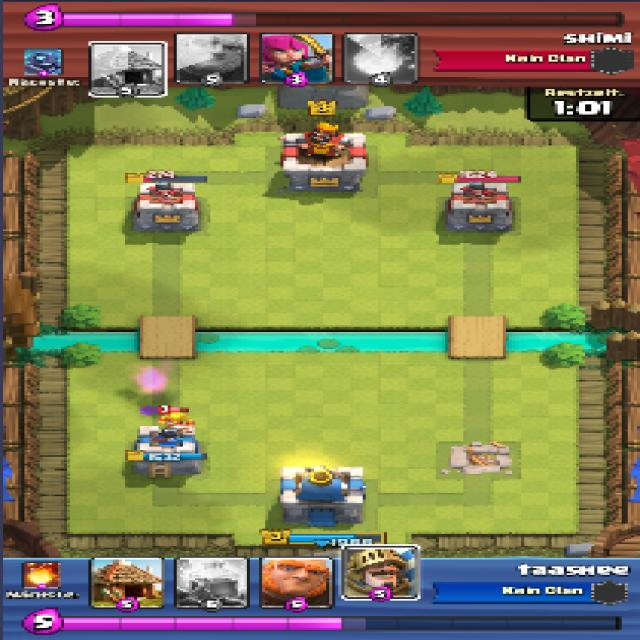Enemy-Goblin: (159, 410, 196, 428)
